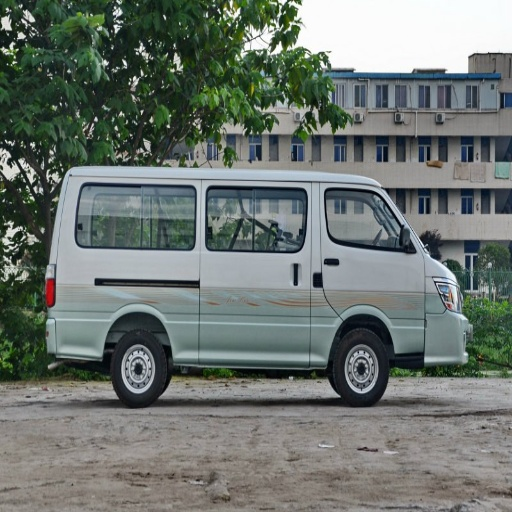back_right_door: (66, 179, 200, 247), (320, 184, 398, 270)
trunk: (60, 256, 225, 361), (317, 293, 448, 362)
